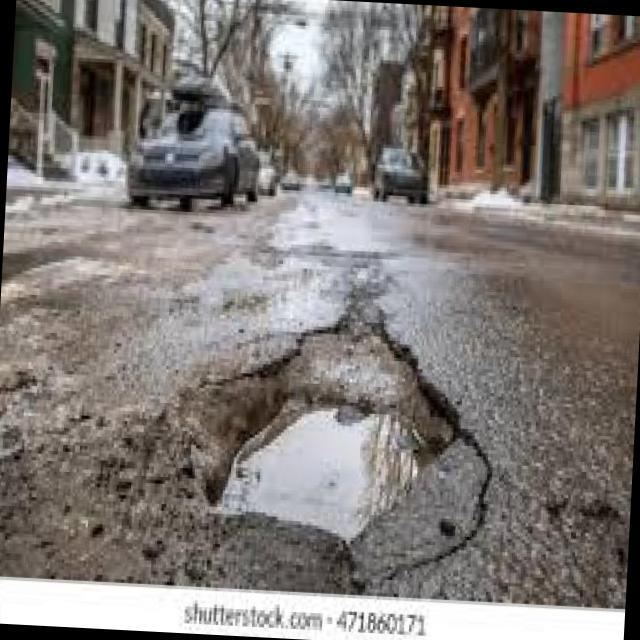Pothole: (214, 302, 440, 551)
